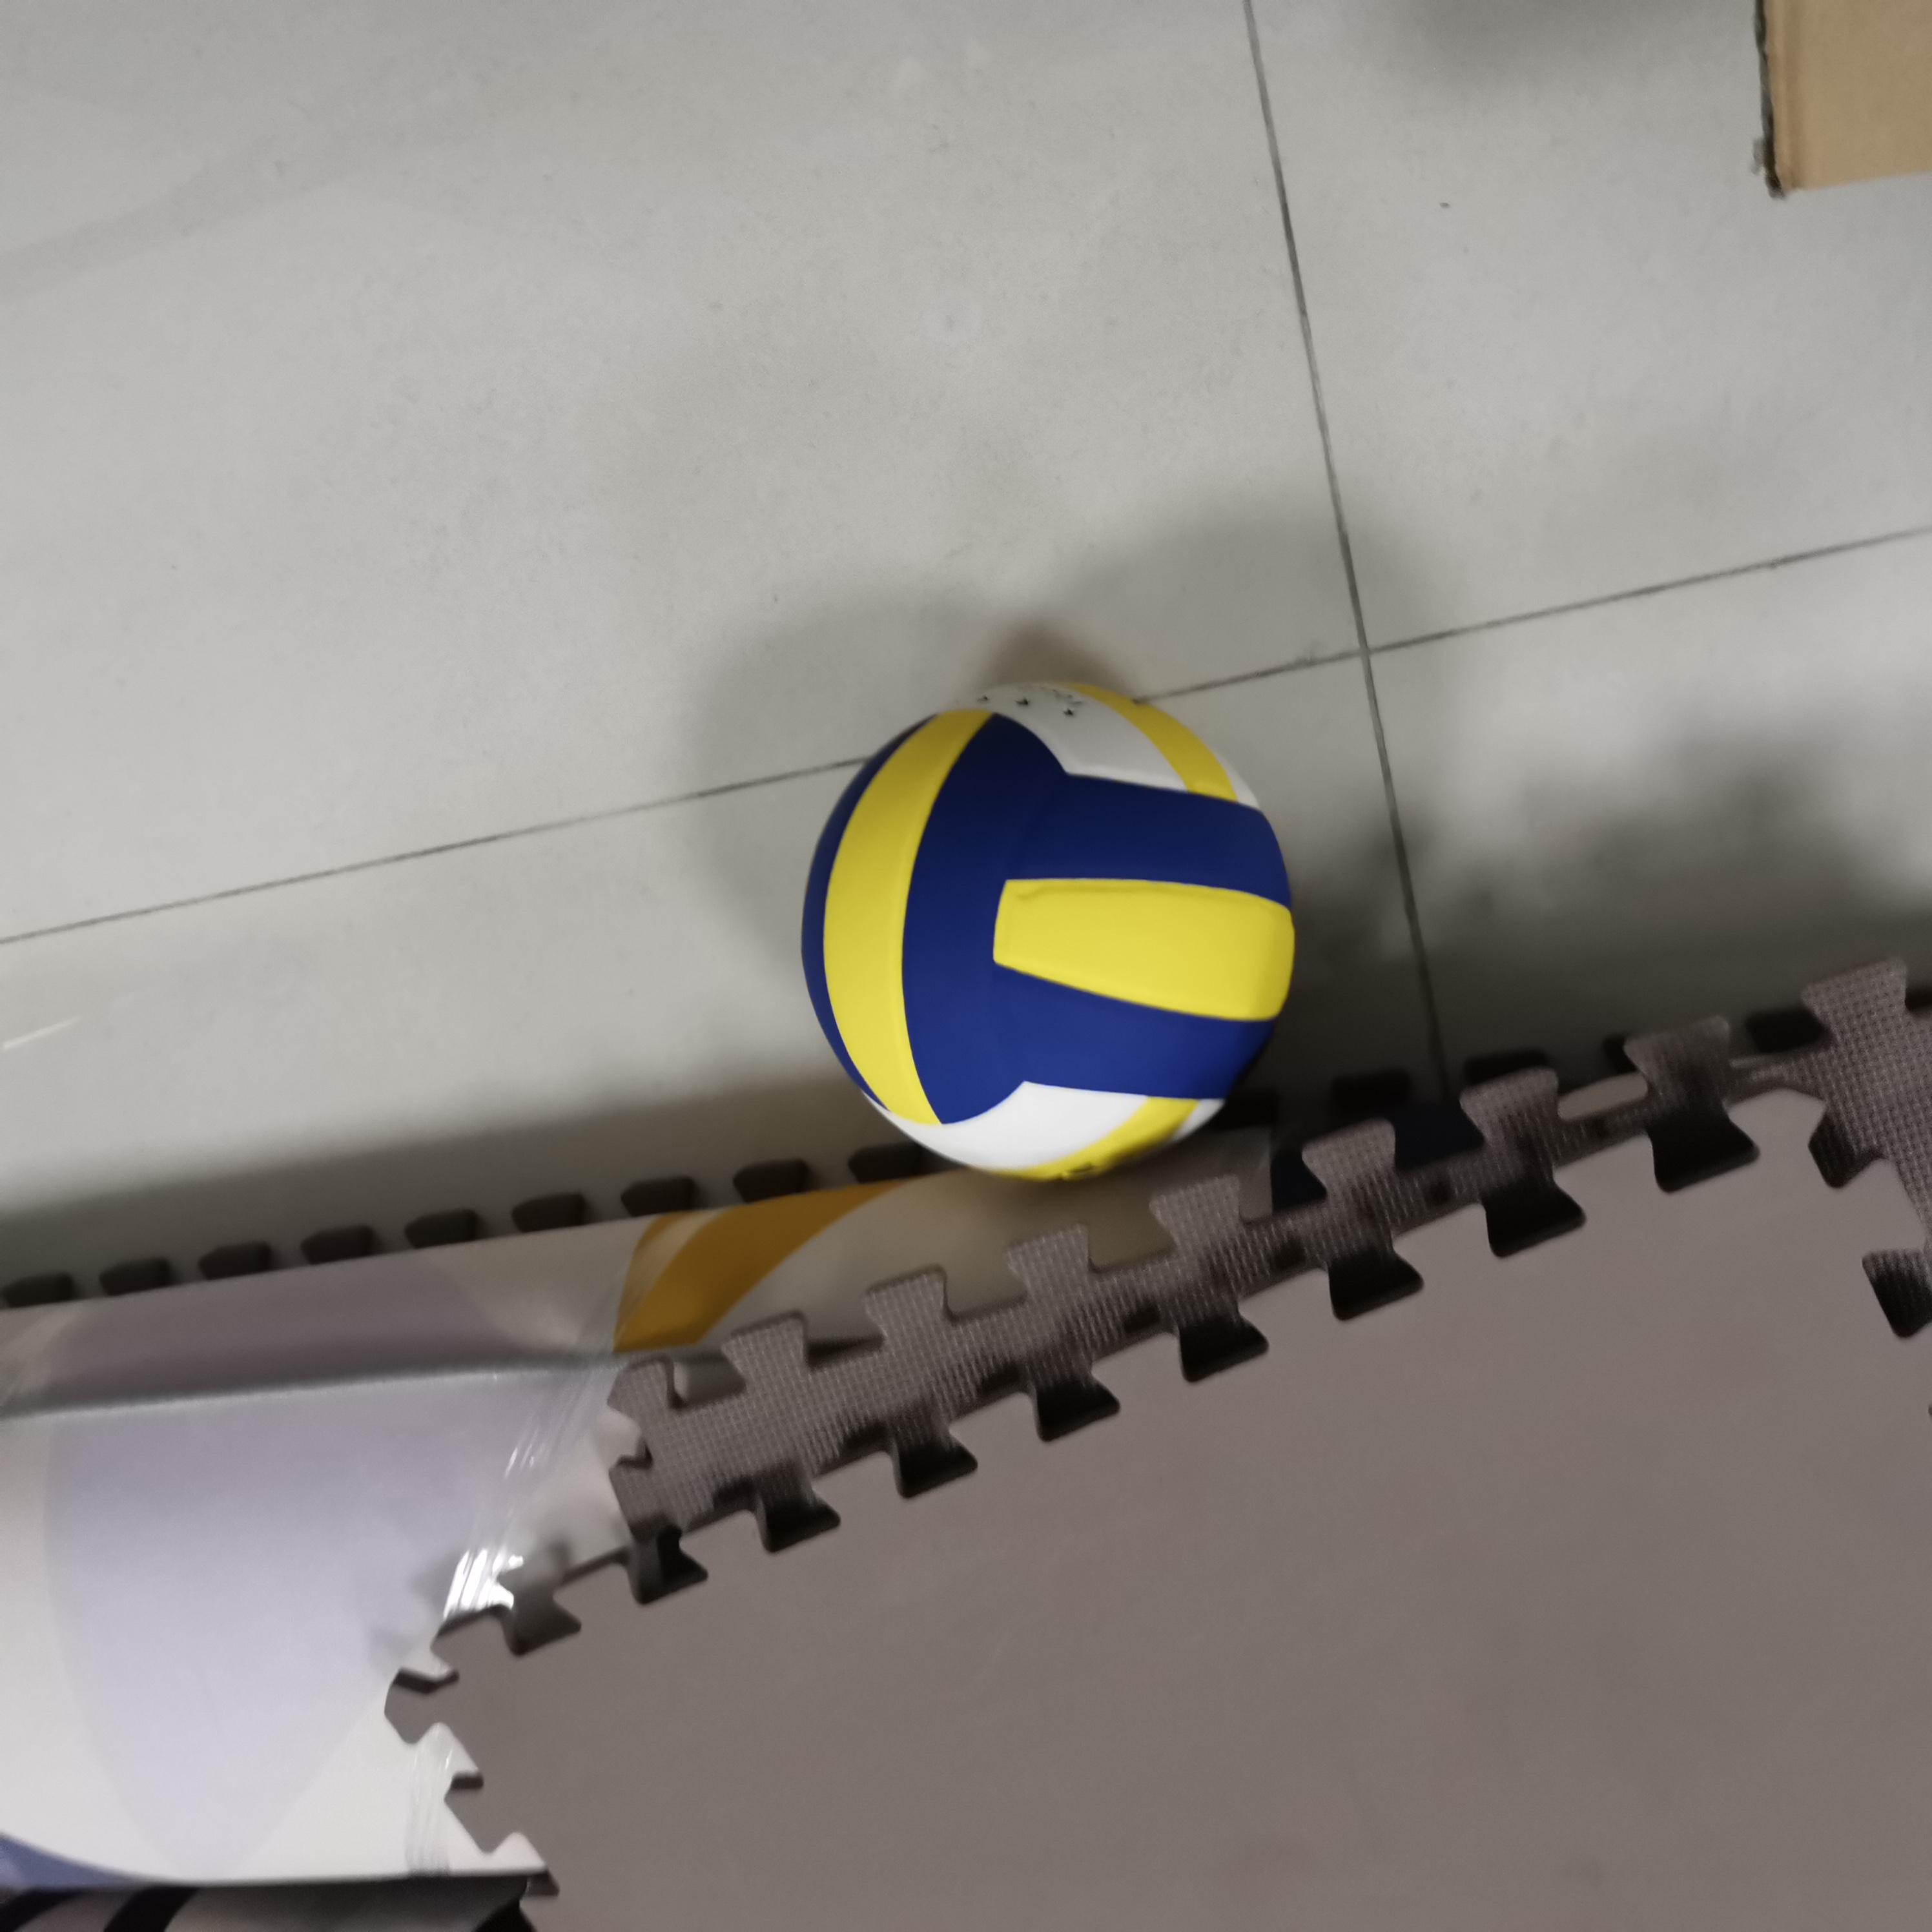volleyball: (800, 669, 1300, 1192)
